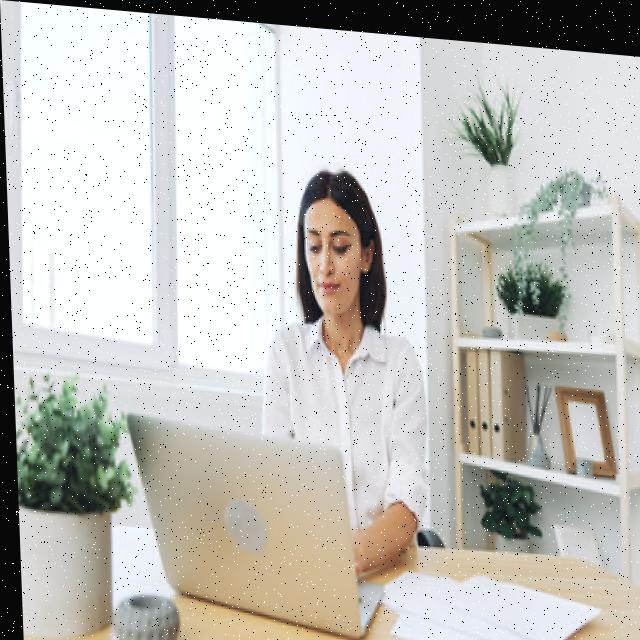notebook-person: (110, 135, 436, 640)
